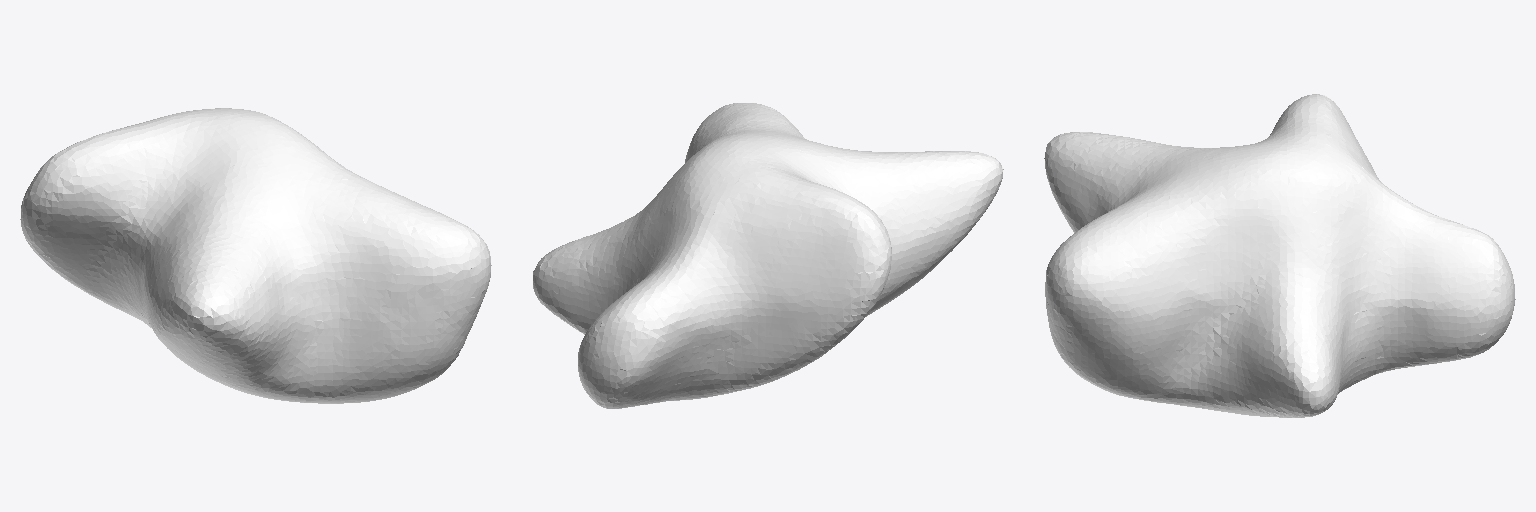
The robot description file, URDF, robot "feelie8":
<robot name="feelie8">
	<link name="_name">
		<visual>
			<origin rpy="0 0 0" xyz="0.001920458585413335 0.006751650160504743 0.0006898587610280484" />
			<geometry>
				<mesh filename="feelie8.obj" scale="0.001 0.001 0.001" />
			</geometry>
			<material name="texture">
				<color rgba="1.0 1.0 1.0 1.0" />
			</material>
		</visual>
		<collision>
			<geometry>
				<mesh filename="feelie8_vhacd.obj" scale="0.001 0.001 0.001" />
			</geometry>
		<origin rpy="0 0 0" xyz="0.001920458585413335 0.006751650160504743 0.0006898587610280484" /></collision>
		<inertial>
			<mass value="1.0" />
			<inertia ixx="1.0" ixy="0.0" ixz="0.0" iyy="1.0" iyz="0.0" izz="1.0" />
		</inertial>
	</link>
</robot>

--- Facts derived from the render (not from the file) ---
Views: 3 orthographic renders of the robot side by side, from view 1: azimuth 30°, elevation 25°; view 2: azimuth 150°, elevation 25°; view 3: azimuth 270°, elevation 25°.
Robot: feelie8 — 1 links, 0 joints (none); root link _name; default pose: every joint at zero.
Visible links, largest first — view 1: _name; view 2: _name; view 3: _name.
Link boxes in pixels (<box>): _name: <box>20,108,491,403</box>; _name: <box>533,103,1003,408</box>; _name: <box>1044,94,1515,417</box>.
Size in the robot's own frame: 0.0862 by 0.0988 by 0.0534 metres.
1 mesh visuals loaded from 1 distinct referenced files (1 OBJ).
